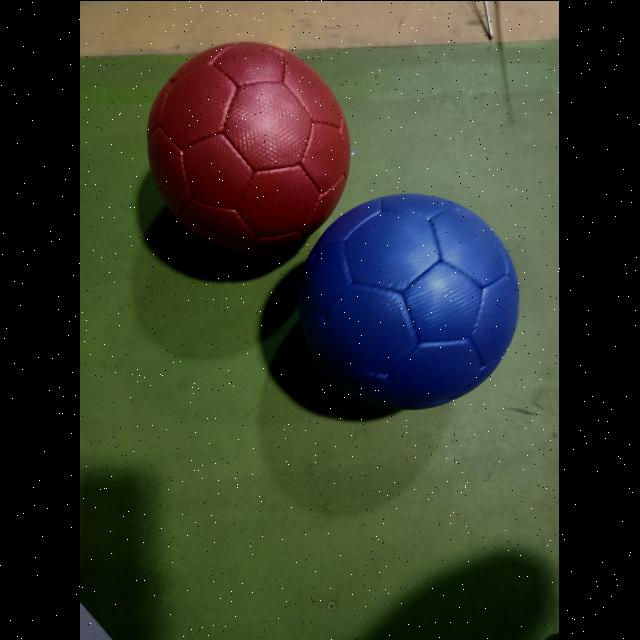B: (298, 193, 520, 411)
R: (148, 42, 352, 256)
